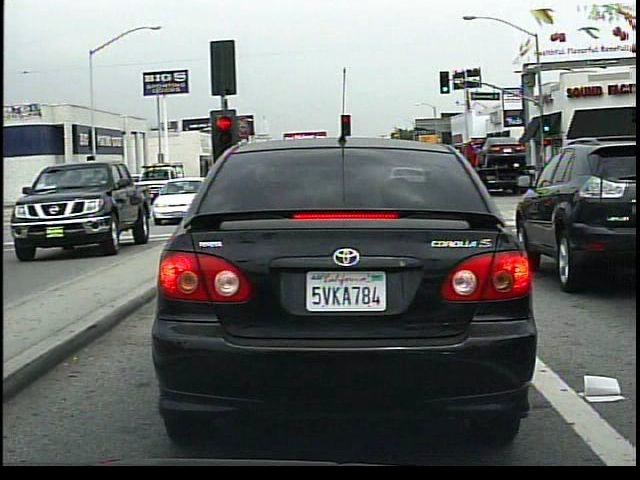person: (173, 168, 195, 193)
